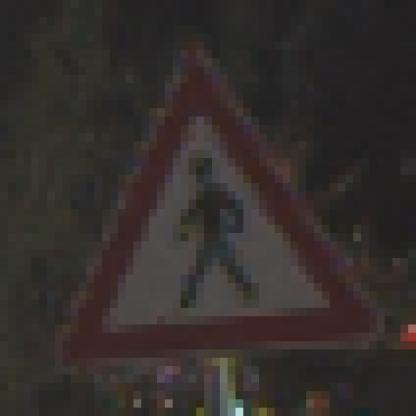crosswalk: (55, 41, 384, 359)
